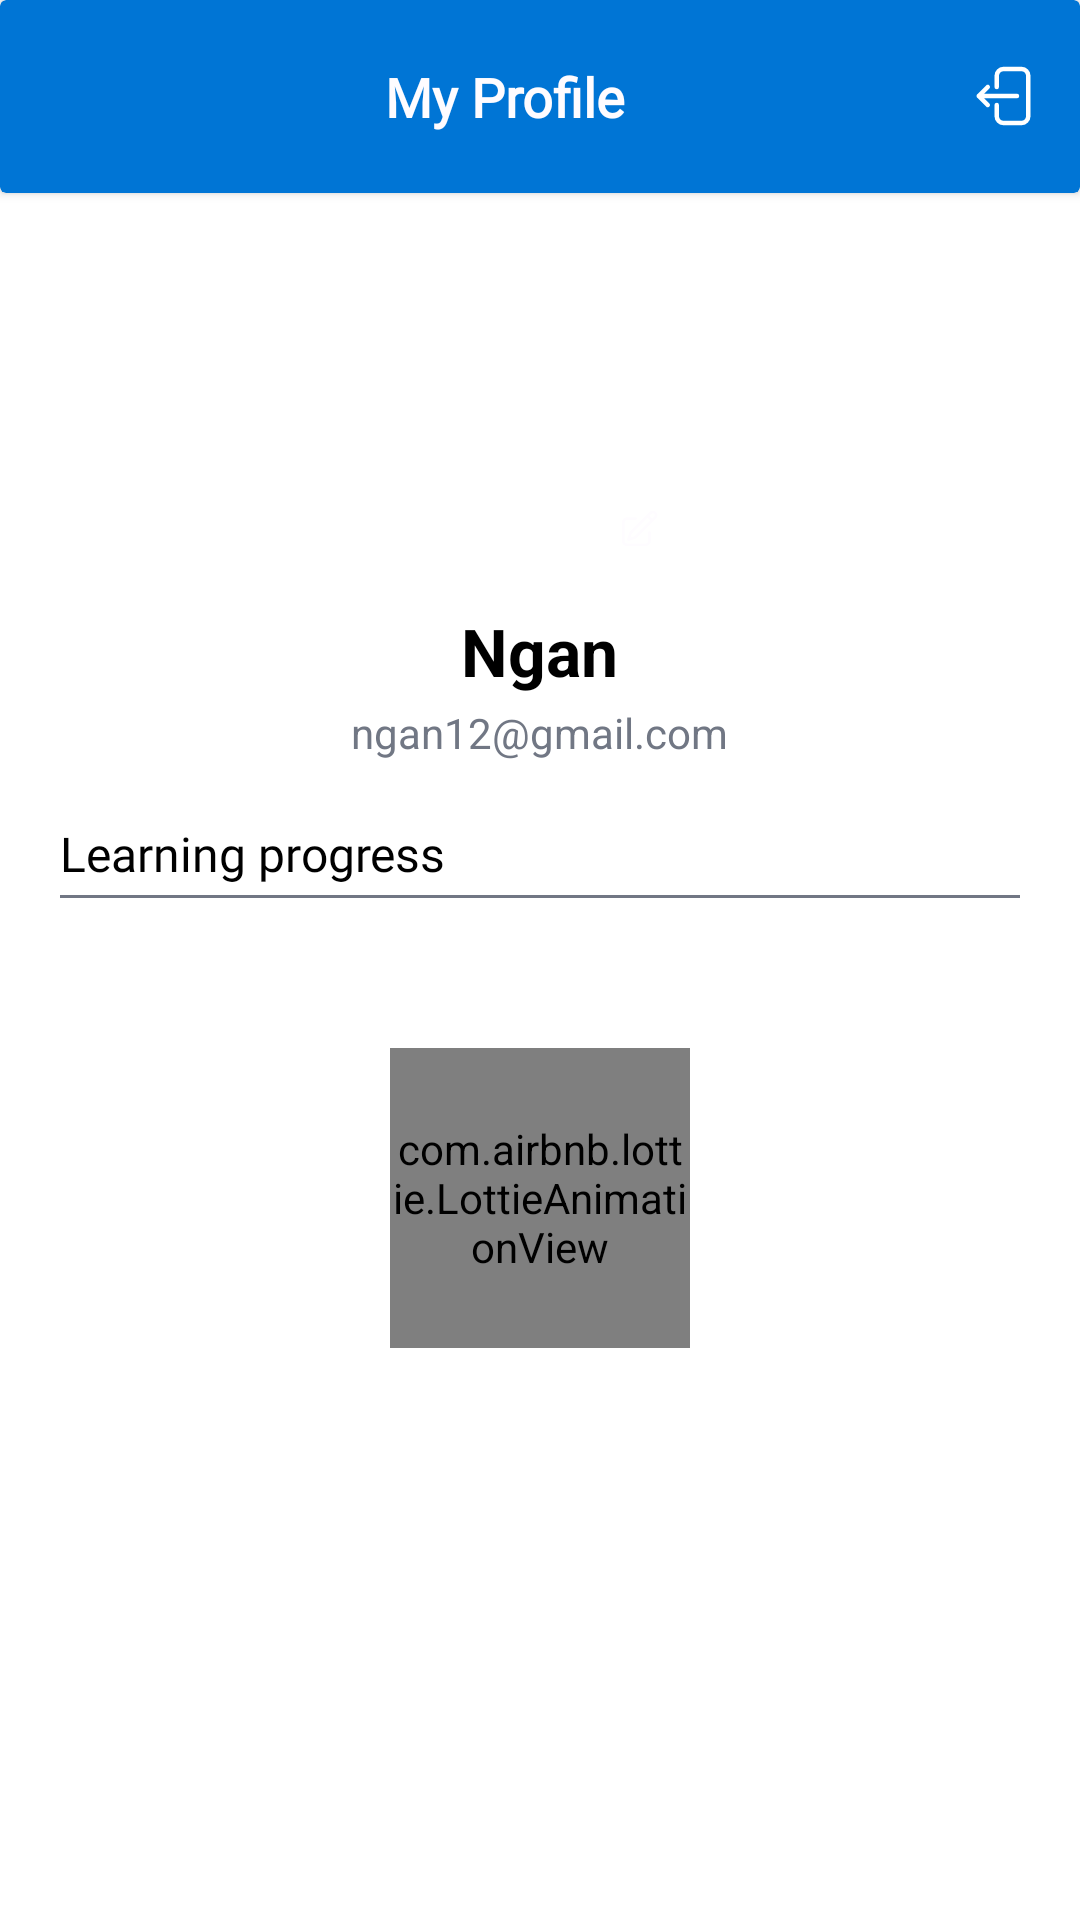

Named icons in this screenshot (1080px x 1920px) and their centers, [x,y]:
log out: [1003,96]
